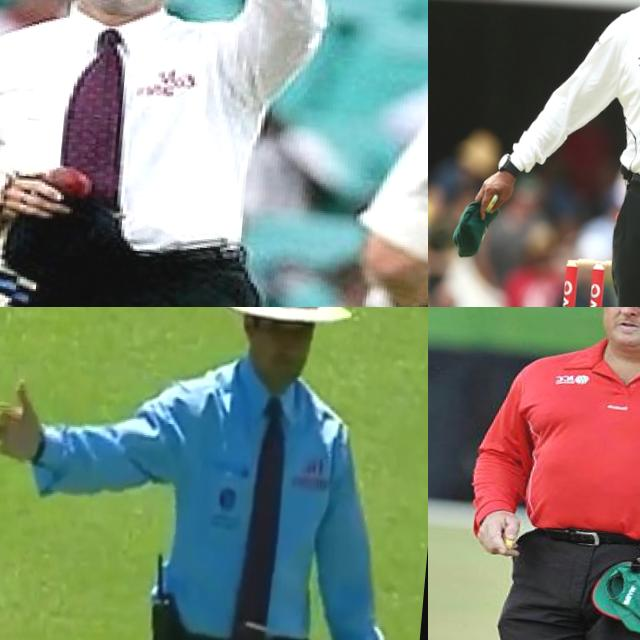No_Ball: (0, 307, 428, 640), (433, 307, 640, 640), (432, 0, 640, 307)
Out: (0, 0, 345, 307)
